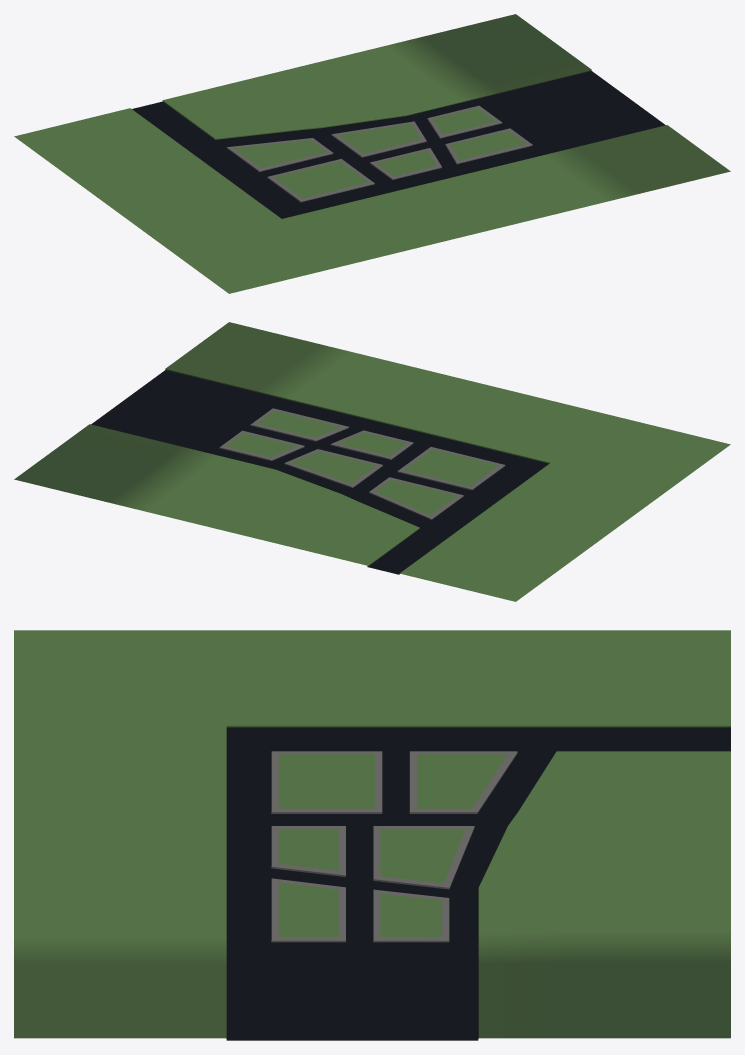
3 renders of one model, top to bottom at view 1: azimuth 30°, elevation 25°; view 2: azimuth 150°, elevation 25°; view 3: azimuth 270°, elevation 25°, orthographic. The views are drawn at different scales.
Visible parts, largest first — view 1: Plane.020; view 2: Plane.020; view 3: Plane.020.
Boxes of the visible parts, x1,y1,x2,y2 form: Plane.020: [14, 14, 730, 293]; Plane.020: [14, 322, 730, 601]; Plane.020: [14, 630, 730, 1040].
Size of the model in its own units: 16745 by 42.23 by 12435.
1 material, 1 textured.
